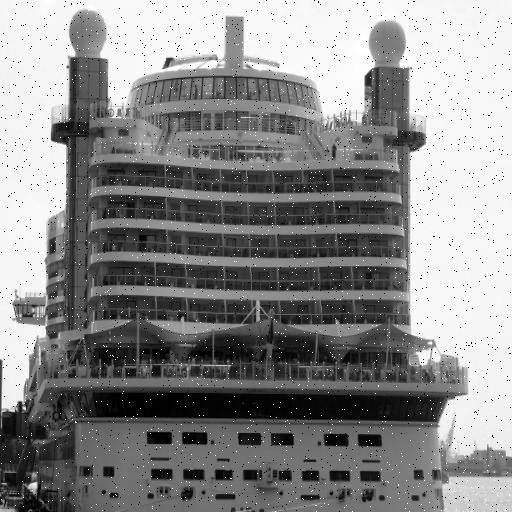cruises: (12, 1, 474, 512)
